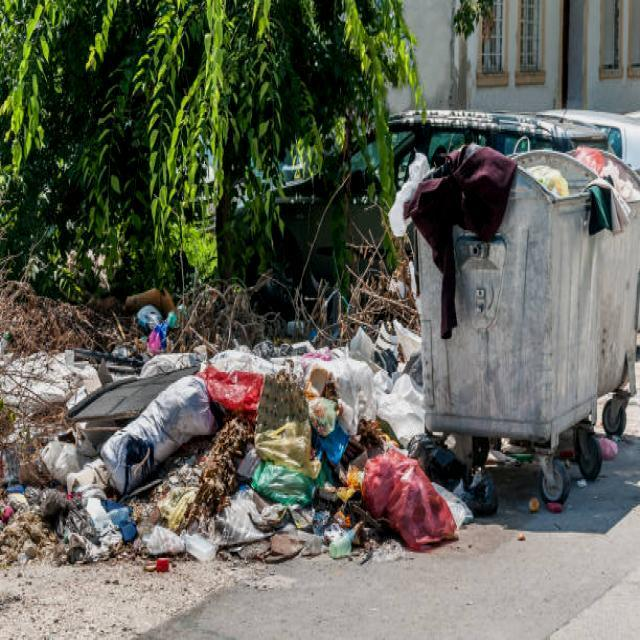high trash: (0, 324, 498, 564)
